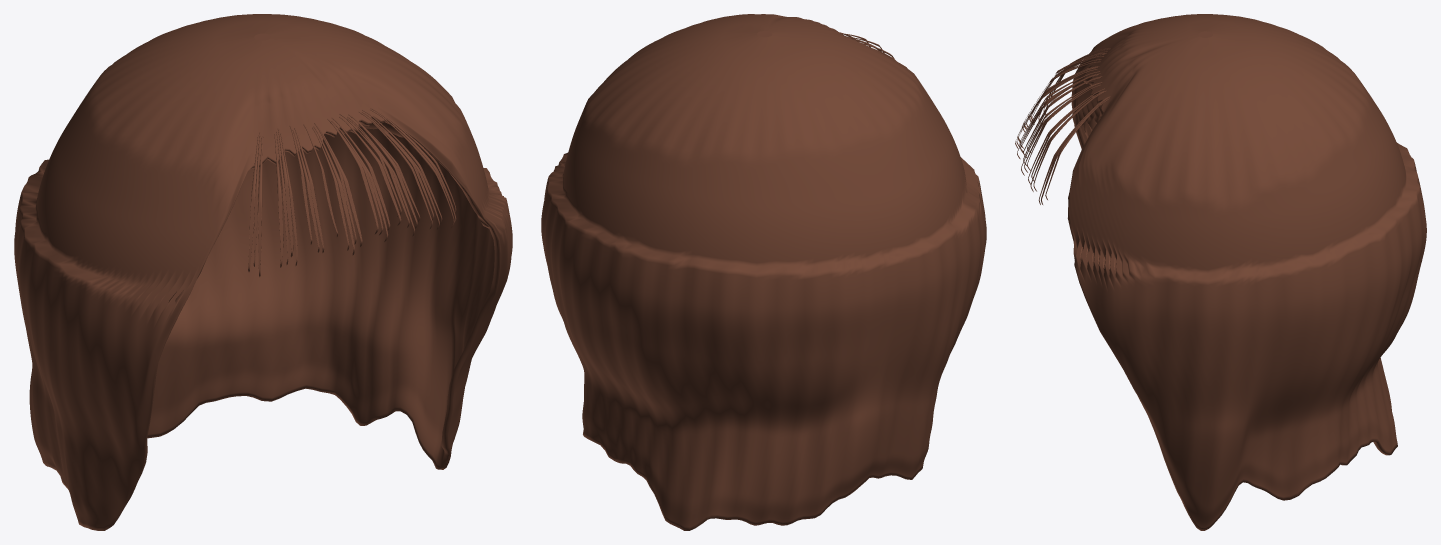
The model's file is side-sweep-beanie.glb.
3 views of the same model, side by side, from view 1: azimuth 30°, elevation 25°; view 2: azimuth 150°, elevation 25°; view 3: azimuth 270°, elevation 25° (orthographic). The views are drawn at different scales.
Parts seen in each view (by area): view 1: Hair / layered lob, Fringe / fine strands; view 2: Hair / layered lob; view 3: Hair / layered lob, Fringe / fine strands.
Boxes of the visible parts, x1,y1,x2,y2 form: Hair / layered lob: (14,14,512,530); Fringe / fine strands: (248,107,456,276); Hair / layered lob: (541,14,986,530); Hair / layered lob: (1067,14,1426,530); Fringe / fine strands: (1015,48,1110,204).
Size of the model in its own units: 0.8388 by 0.8786 by 0.78.
